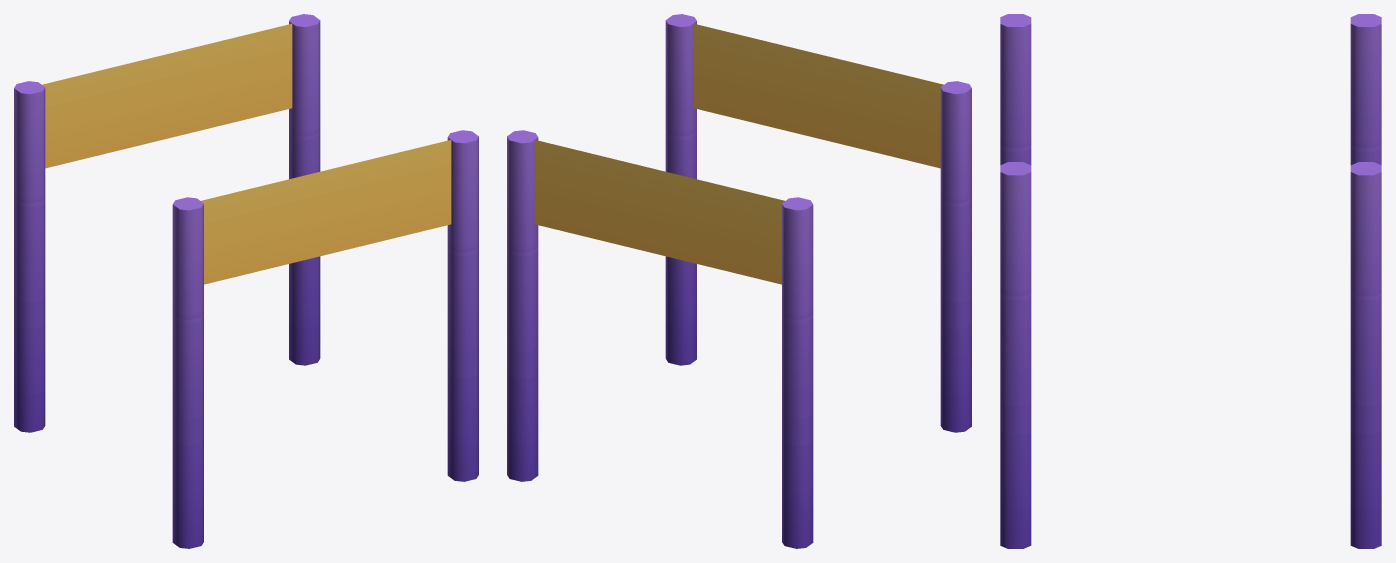
The model's file is banner-double-high.glb.
The picture shows the model from 3 angles, left to right: view 1: azimuth 30°, elevation 25°; view 2: azimuth 150°, elevation 25°; view 3: azimuth 270°, elevation 25°; orthographic projection. The views are drawn at different scales.
Parts seen in each view (by area): view 1: banner-double-high; view 2: banner-double-high; view 3: banner-double-high.
Part boxes in pixels (x1=…): banner-double-high: x1=14, y1=14, x2=478, y2=548; banner-double-high: x1=507, y1=14, x2=971, y2=548; banner-double-high: x1=1000, y1=14, x2=1381, y2=548.
Size of the model in its own units: 0.925 by 1 by 0.925.
Materials: 1 (1 with a texture image).
